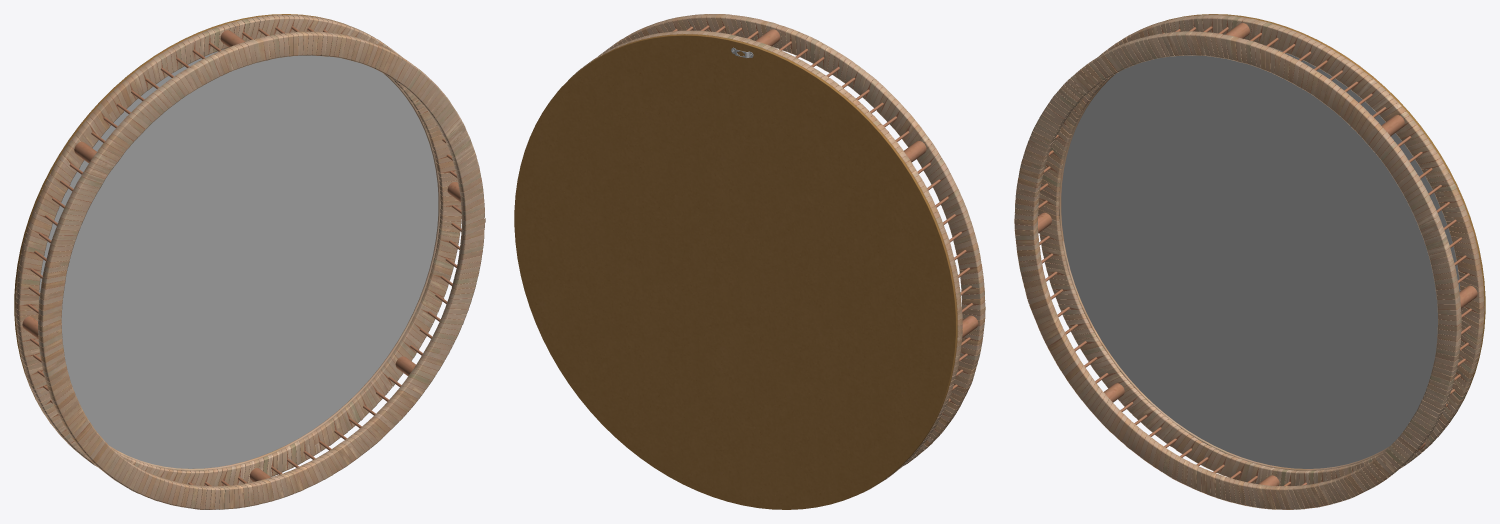
The picture shows the model from 3 angles, left to right: view 1: azimuth 30°, elevation 25°; view 2: azimuth 150°, elevation 25°; view 3: azimuth 330°, elevation 25°; orthographic projection.
Visible parts, largest first — view 1: 1791; view 2: 1791; view 3: 1791.
Boxes of the visible parts, bbox=[...] form: 1791: bbox=[14, 14, 485, 509]; 1791: bbox=[514, 14, 985, 509]; 1791: bbox=[1014, 14, 1485, 509].
Bounding box in the file's own units: 0.8038 × 0.8014 × 0.0963.
1 material, 1 textured.
